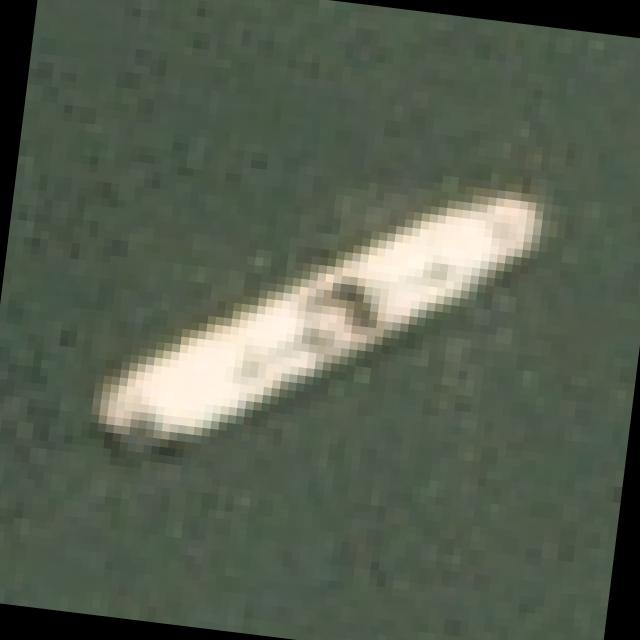ship: (58, 115, 584, 528)
